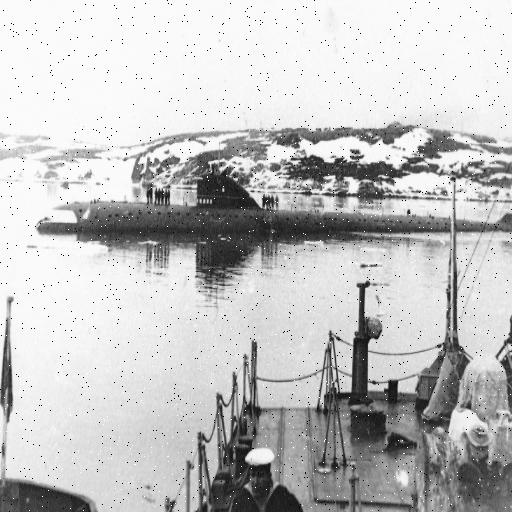submarine: (39, 173, 512, 239)
